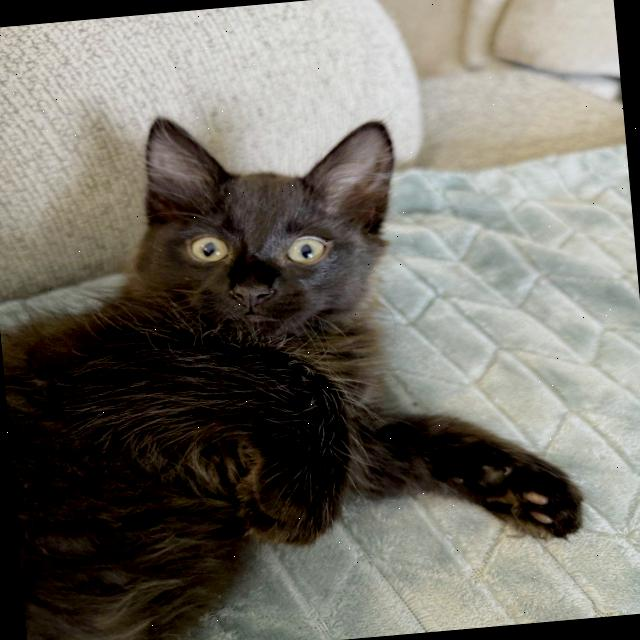manx_cat: (61, 86, 443, 396)
